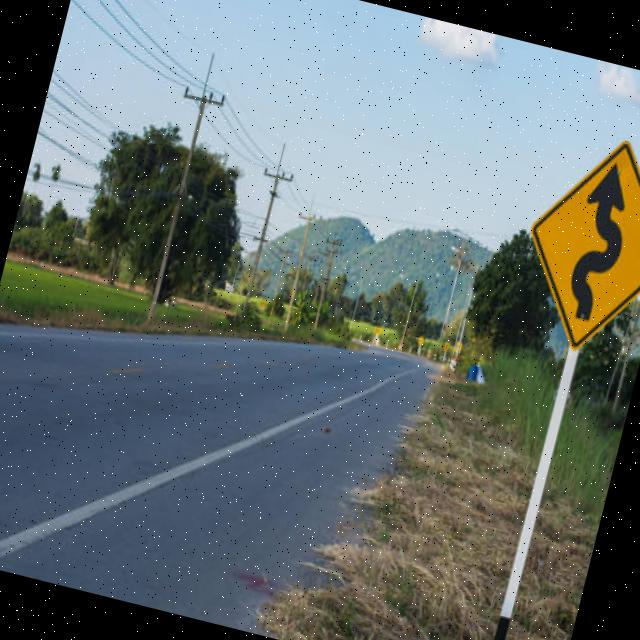left_sharp_curve: (505, 117, 640, 364)
